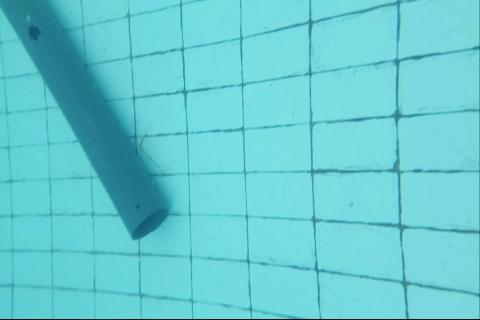kebocoran: (27, 25, 41, 41), (135, 204, 140, 210)
